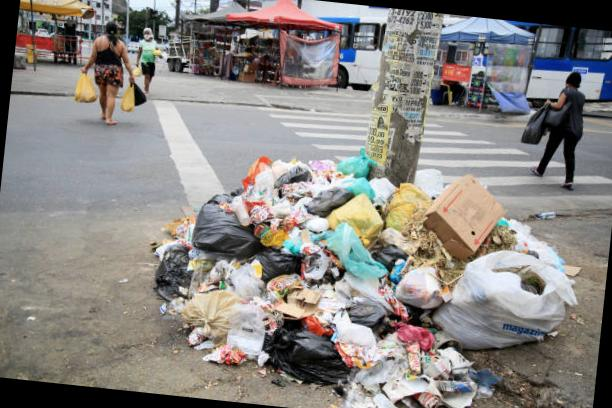trash: (137, 118, 598, 408), (528, 206, 564, 228)
